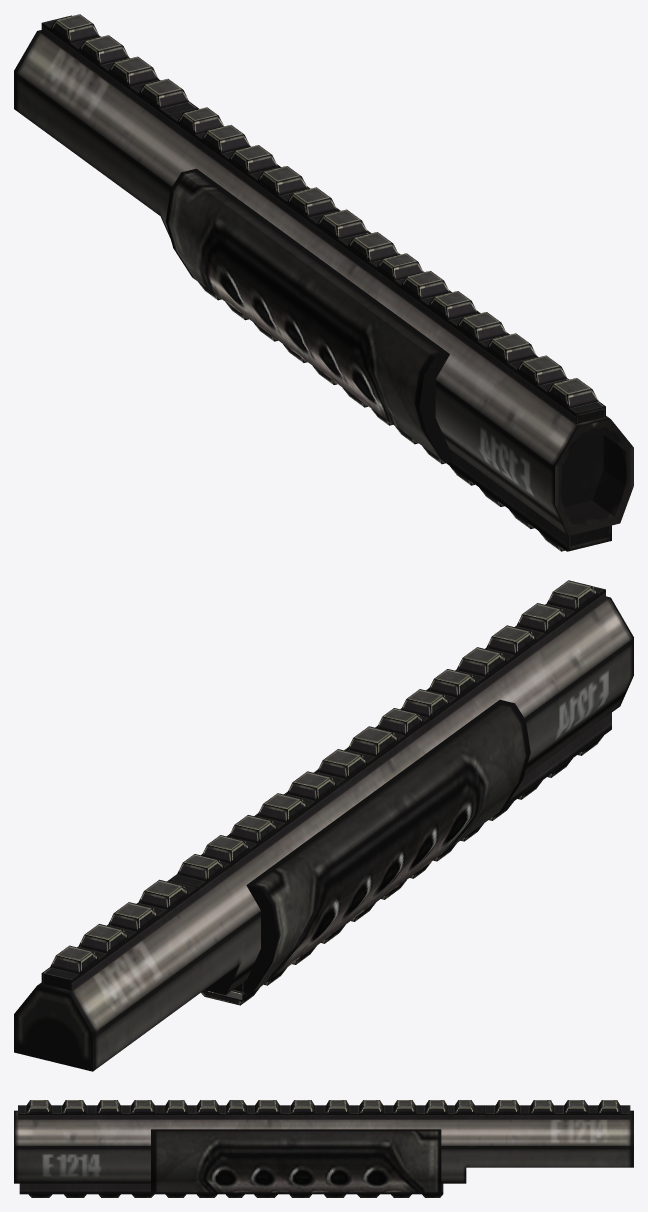
The model's file is SniperRifle_Warfare_Barrel_4.FBX.
3 renders of one model, top to bottom at view 1: azimuth 30°, elevation 25°; view 2: azimuth 150°, elevation 25°; view 3: azimuth 270°, elevation 25°, orthographic. The views are drawn at different scales.
Parts seen in each view (by area): view 1: mesh_barrel; view 2: mesh_barrel; view 3: mesh_barrel.
Boxes of the visible parts, bbox=[...] form: mesh_barrel: bbox=[14, 14, 633, 551]; mesh_barrel: bbox=[14, 580, 633, 1071]; mesh_barrel: bbox=[14, 1100, 633, 1197].
Size of the model in its own units: 0.0628 by 0.0839 by 0.528.
